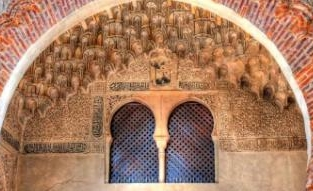arco-herradura: (104, 95, 162, 154), (161, 96, 219, 154)
